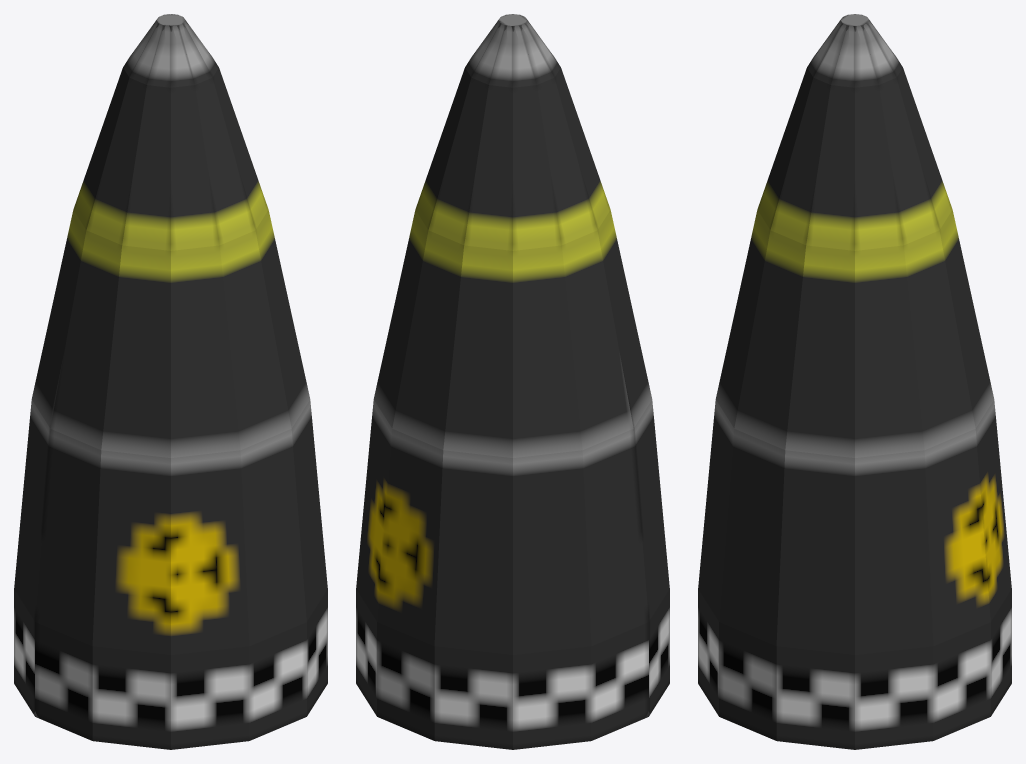
Rendered from mp_w_15_nuclear.obj.
3 renders of one model, left to right at view 1: azimuth 30°, elevation 25°; view 2: azimuth 150°, elevation 25°; view 3: azimuth 270°, elevation 25°, orthographic.
Visible parts, largest first — view 1: Cylinder; view 2: Cylinder; view 3: Cylinder.
Part boxes in pixels (x1,y1,x2,y2): Cylinder: (14, 14, 327, 749); Cylinder: (356, 14, 669, 749); Cylinder: (698, 14, 1011, 749).
Size of the model in its own units: 1.5 by 3.5 by 1.5.
